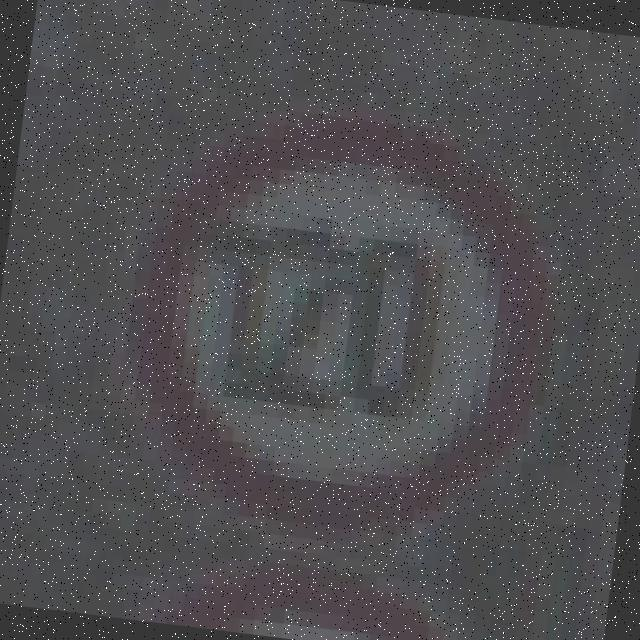Ograniczenie predkosci do 120: (101, 84, 578, 569)
